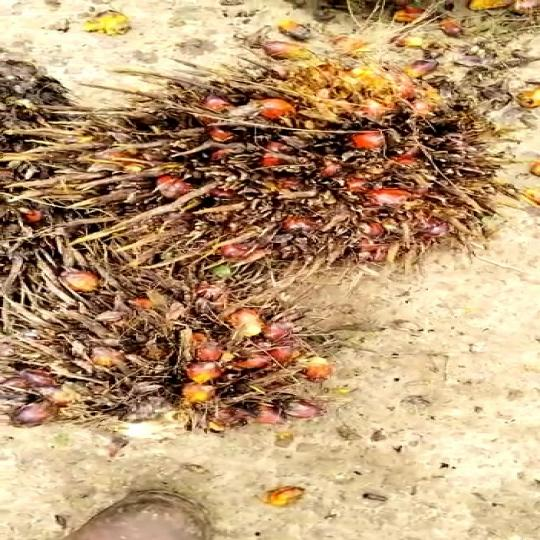terlalu masak: (60, 44, 510, 268), (0, 264, 349, 432)
